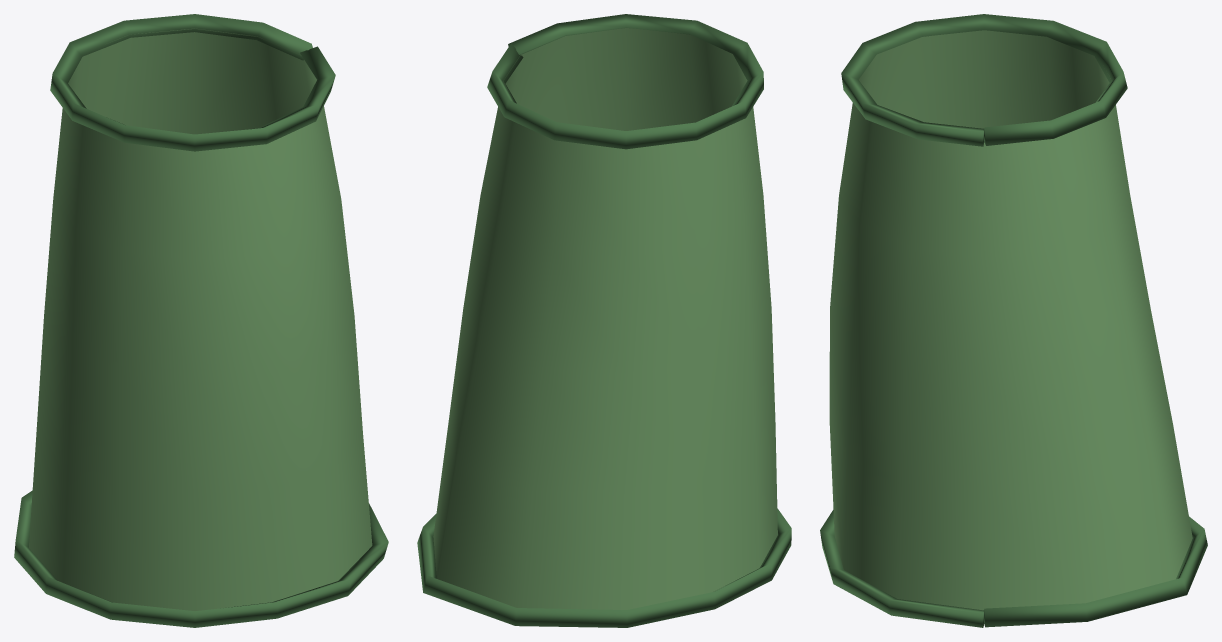
The model's file is tungsten_armor_cuisse.L.glb.
The picture shows the model from 3 angles, left to right: view 1: azimuth 30°, elevation 25°; view 2: azimuth 150°, elevation 25°; view 3: azimuth 270°, elevation 25°; orthographic projection. The views are drawn at different scales.
Visible parts, largest first — view 1: tungsten_armor_cuisse.L; view 2: tungsten_armor_cuisse.L; view 3: tungsten_armor_cuisse.L.
Boxes of the visible parts, x1,y1,x2,y2 form: tungsten_armor_cuisse.L: (14, 14, 388, 627); tungsten_armor_cuisse.L: (417, 14, 791, 627); tungsten_armor_cuisse.L: (820, 14, 1207, 627).
Bounding box in the file's own units: 0.2667 × 0.3856 × 0.2845.
